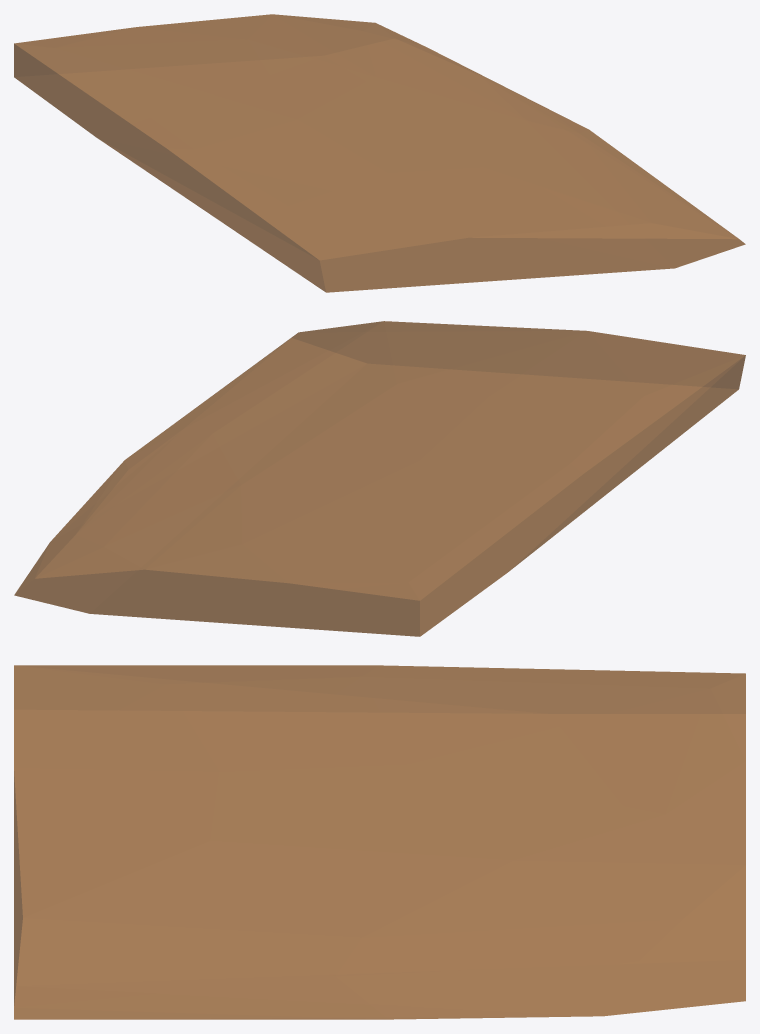
The picture shows the model from 3 angles, top to bottom: view 1: azimuth 30°, elevation 25°; view 2: azimuth 150°, elevation 25°; view 3: azimuth 270°, elevation 25°; orthographic projection. The views are drawn at different scales.
Visible parts, largest first — view 1: Shape_IndexedFaceSet.030_Shape_IndexedFaceSet.11174; view 2: Shape_IndexedFaceSet.030_Shape_IndexedFaceSet.11174; view 3: Shape_IndexedFaceSet.030_Shape_IndexedFaceSet.11174.
Part boxes in pixels (box(x1,y1,x2,y2)): Shape_IndexedFaceSet.030_Shape_IndexedFaceSet.11174: box(14, 14, 745, 292); Shape_IndexedFaceSet.030_Shape_IndexedFaceSet.11174: box(14, 321, 745, 636); Shape_IndexedFaceSet.030_Shape_IndexedFaceSet.11174: box(14, 665, 745, 1019).
Size of the model in its own units: 0.2167 by 0.046 by 0.2692.
